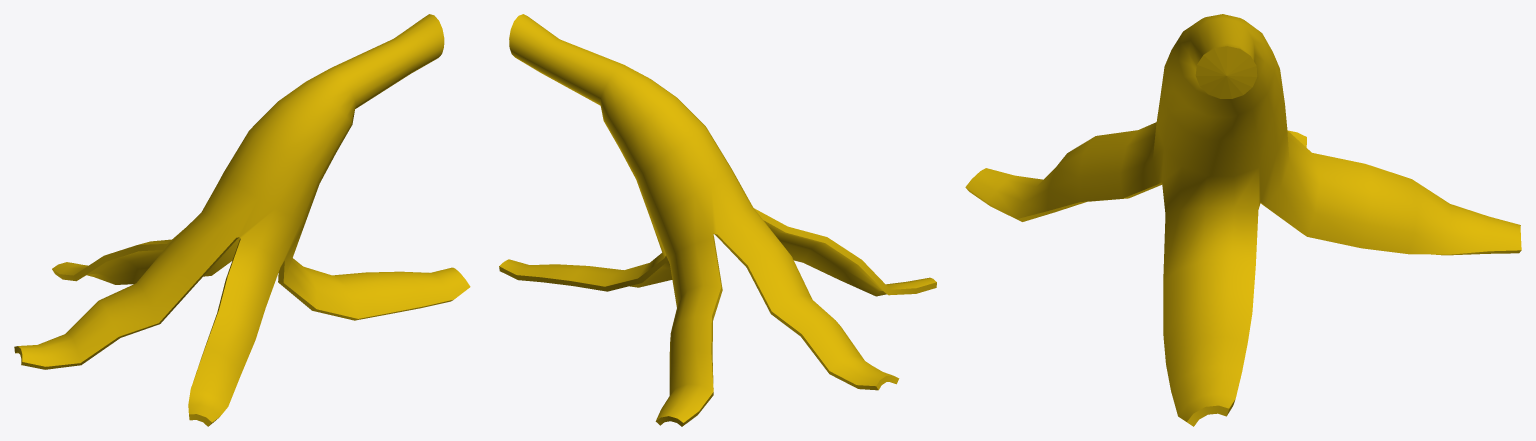
Rendered from banana_low.fbx.
3 renders of one model, left to right at view 1: azimuth 30°, elevation 25°; view 2: azimuth 150°, elevation 25°; view 3: azimuth 270°, elevation 25°, orthographic. The views are drawn at different scales.
Parts seen in each view (by area): view 1: banana_lod0; view 2: banana_lod0; view 3: banana_lod0.
Boxes of the visible parts, x1,y1,x2,y2 form: banana_lod0: [14, 14, 470, 426]; banana_lod0: [499, 14, 936, 426]; banana_lod0: [965, 14, 1521, 426].
Size of the model in its own units: 140 by 87.6 by 118.
